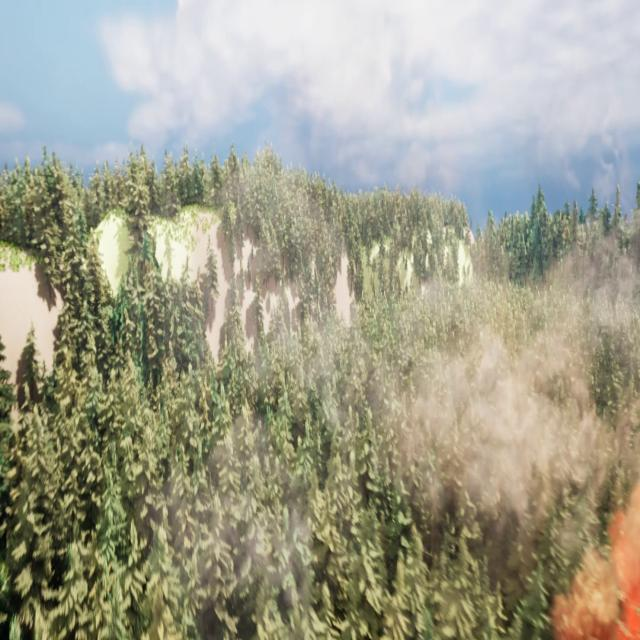fire: (550, 486, 640, 639)
smoke: (174, 162, 639, 593)
